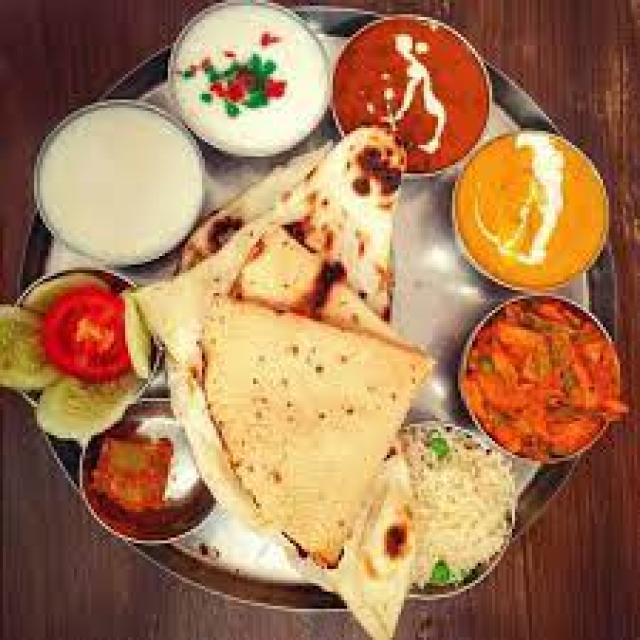dal: (35, 102, 207, 265), (405, 435, 513, 580)
papad: (188, 300, 429, 549)
sweet: (327, 17, 501, 179), (446, 128, 606, 292), (171, 9, 332, 155), (77, 423, 204, 543), (227, 192, 333, 321), (32, 286, 133, 387)
veg-fry: (446, 291, 624, 469)
